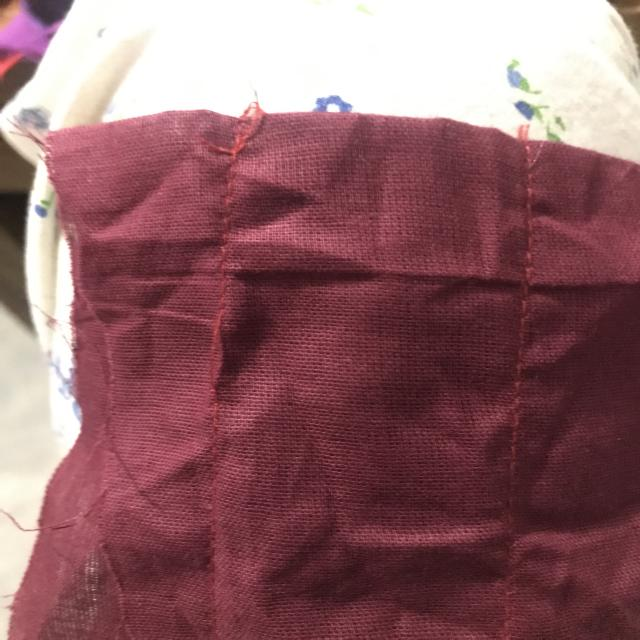skip: (197, 300, 250, 394)
